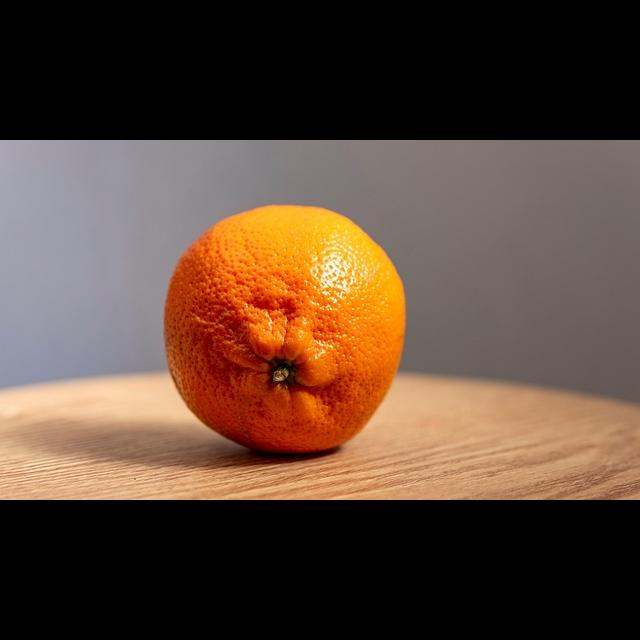orange: (151, 192, 433, 467)
